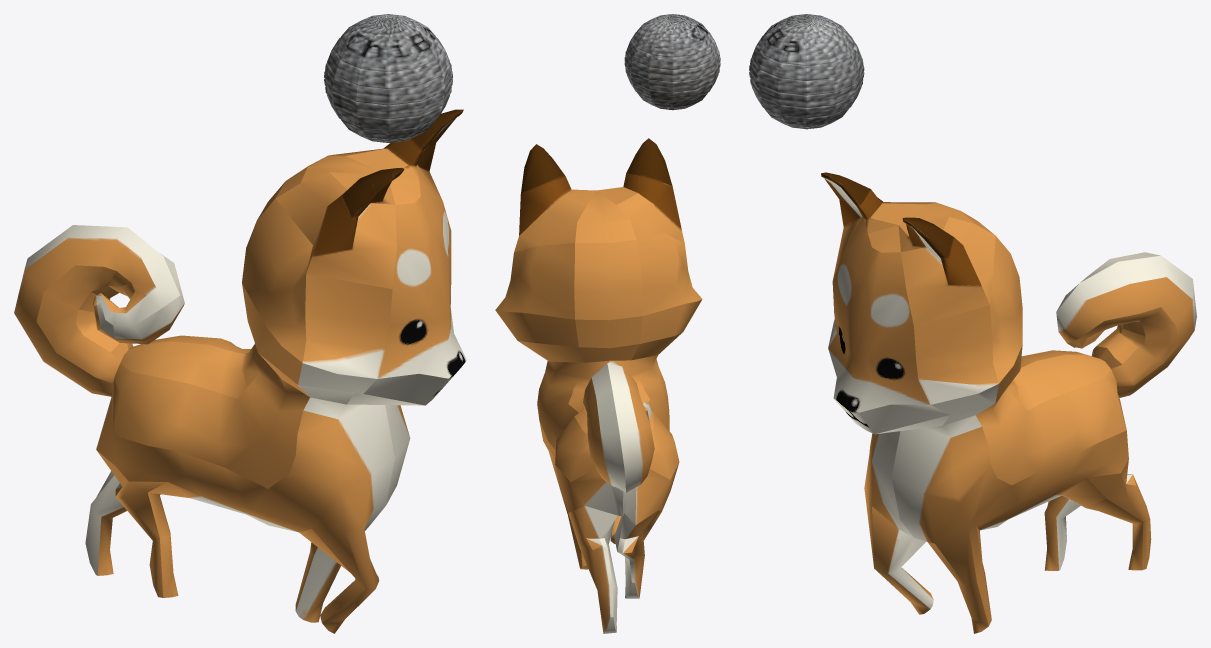
Rendered from ball_frame9.obj.
3 views of the same model, side by side, from view 1: azimuth 30°, elevation 25°; view 2: azimuth 150°, elevation 25°; view 3: azimuth 270°, elevation 25° (orthographic). The views are drawn at different scales.
Parts seen in each view (by area): view 1: walk1:newRigging:BodzL1, pSphere1; view 2: walk1:newRigging:BodzL1, pSphere1; view 3: walk1:newRigging:BodzL1, pSphere1.
Boxes of the visible parts, x1,y1,x2,y2 form: walk1:newRigging:BodzL1: [14, 109, 466, 633]; pSphere1: [324, 14, 452, 142]; walk1:newRigging:BodzL1: [495, 138, 702, 633]; pSphere1: [624, 14, 720, 110]; walk1:newRigging:BodzL1: [821, 172, 1196, 633]; pSphere1: [749, 14, 864, 129].
Bounding box in the file's own units: 4.91 × 10.43 × 7.
Materials: 2 (2 with a texture image).
